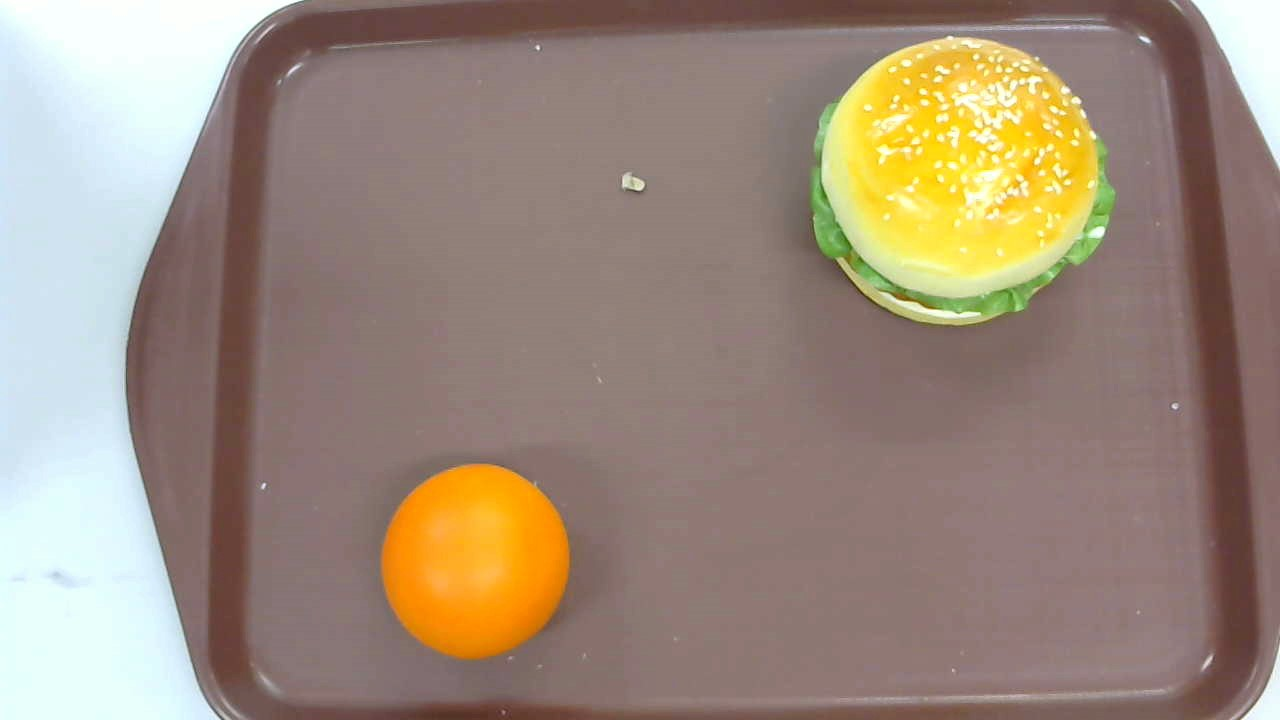bun: (381, 462, 571, 660)
hamburger: (810, 34, 1116, 328)
